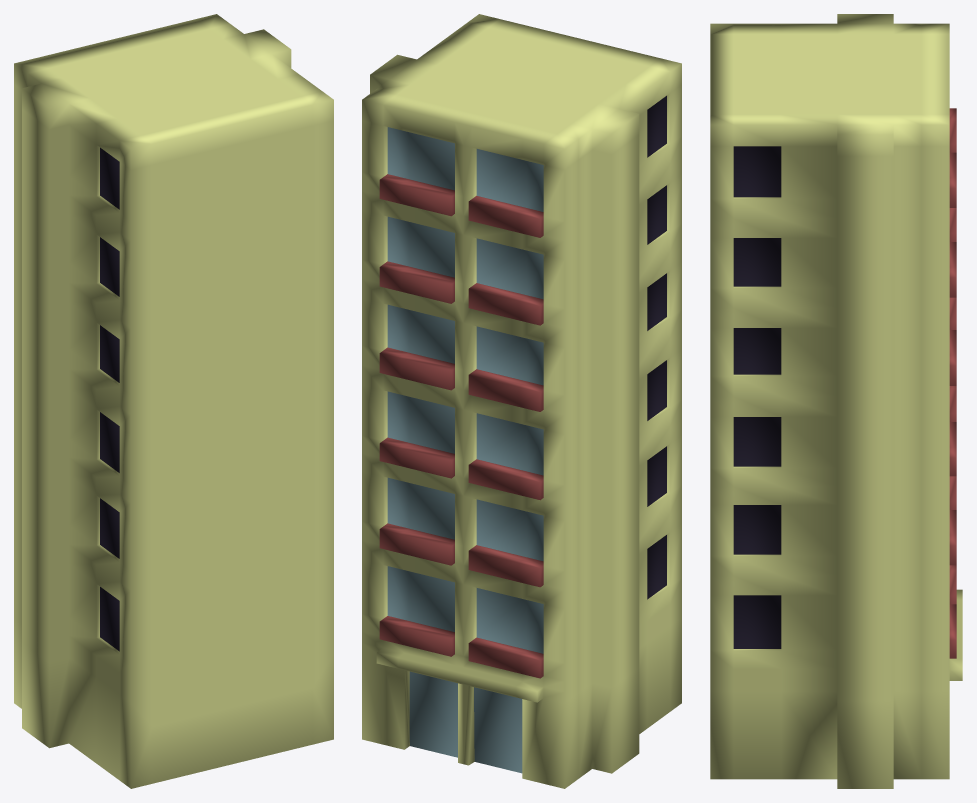
The model's file is PredioJanelas2.fbx.
3 views of the same model, side by side, from view 1: azimuth 30°, elevation 25°; view 2: azimuth 150°, elevation 25°; view 3: azimuth 270°, elevation 25° (orthographic). The views are drawn at different scales.
Parts seen in each view (by area): view 1: Cube; view 2: Cube; view 3: Cube.
Boxes of the visible parts, x1,y1,x2,y2 form: Cube: [14, 14, 333, 788]; Cube: [362, 14, 681, 788]; Cube: [710, 14, 962, 788].
Bounding box in the file's own units: 471 × 1189 × 416.
